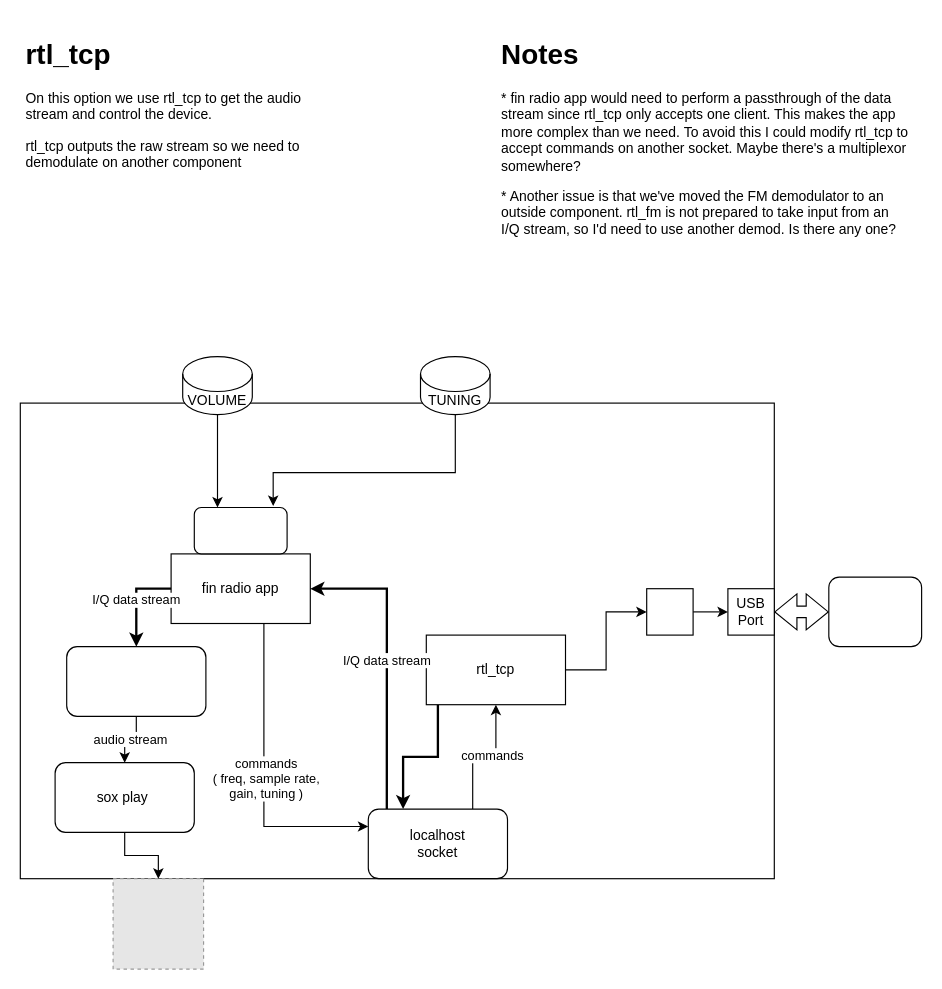
Some shapes in this 942 by 989 pixel diagram are drawn without their labels. Grey dashed boxes stand in for pictures. The shapes that lost their labels are listed below. From the top down, each one's box as (x1, y1, x2, y2) in pixels, then its label:
(193, 506, 287, 554): rotary knob potentiometer I/O
(646, 588, 693, 635): libusb
(828, 576, 922, 647): rtl-sdr USB dongle
(66, 646, 206, 716): Demodulator
